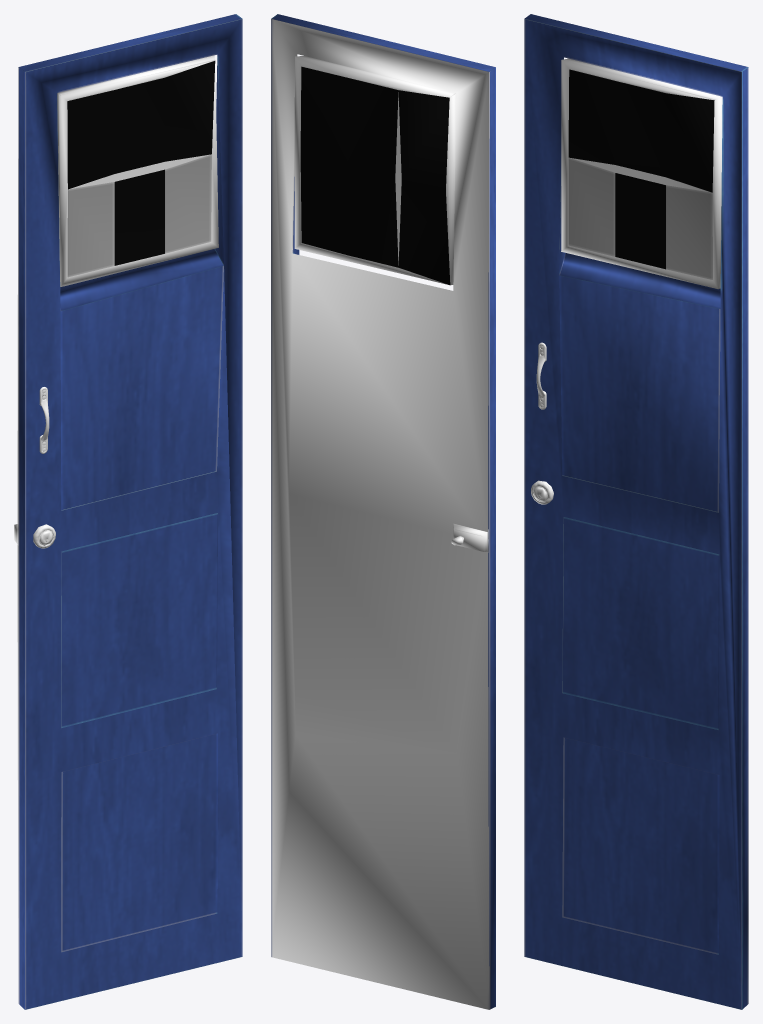
Rendered from door_right.obj.
The picture shows the model from 3 angles, left to right: view 1: azimuth 30°, elevation 25°; view 2: azimuth 150°, elevation 25°; view 3: azimuth 330°, elevation 25°; orthographic projection.
Visible parts, largest first — view 1: 1.Right_Door; view 2: 1.Right_Door; view 3: 1.Right_Door.
Boxes of the visible parts, x1,y1,x2,y2 form: 1.Right_Door: (14,14,242,1009); 1.Right_Door: (271,14,495,1009); 1.Right_Door: (524,14,748,1009).
Size of the model in its own units: 0.5552 by 2.28 by 0.089.
1 material, 1 textured.
